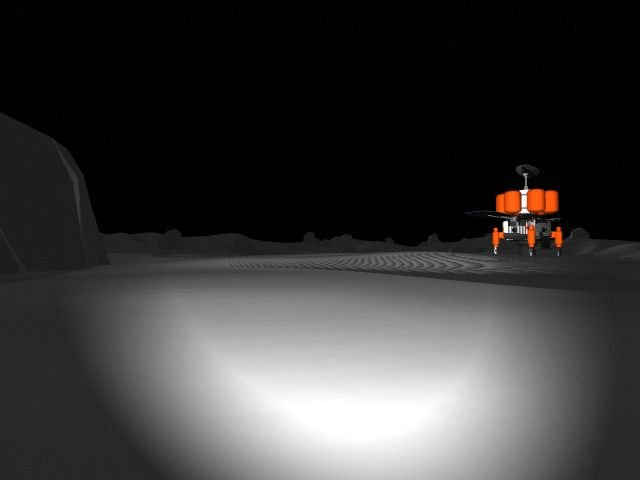homebase: (459, 162, 587, 261)
